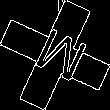M_SW: (23, 23, 87, 87)
